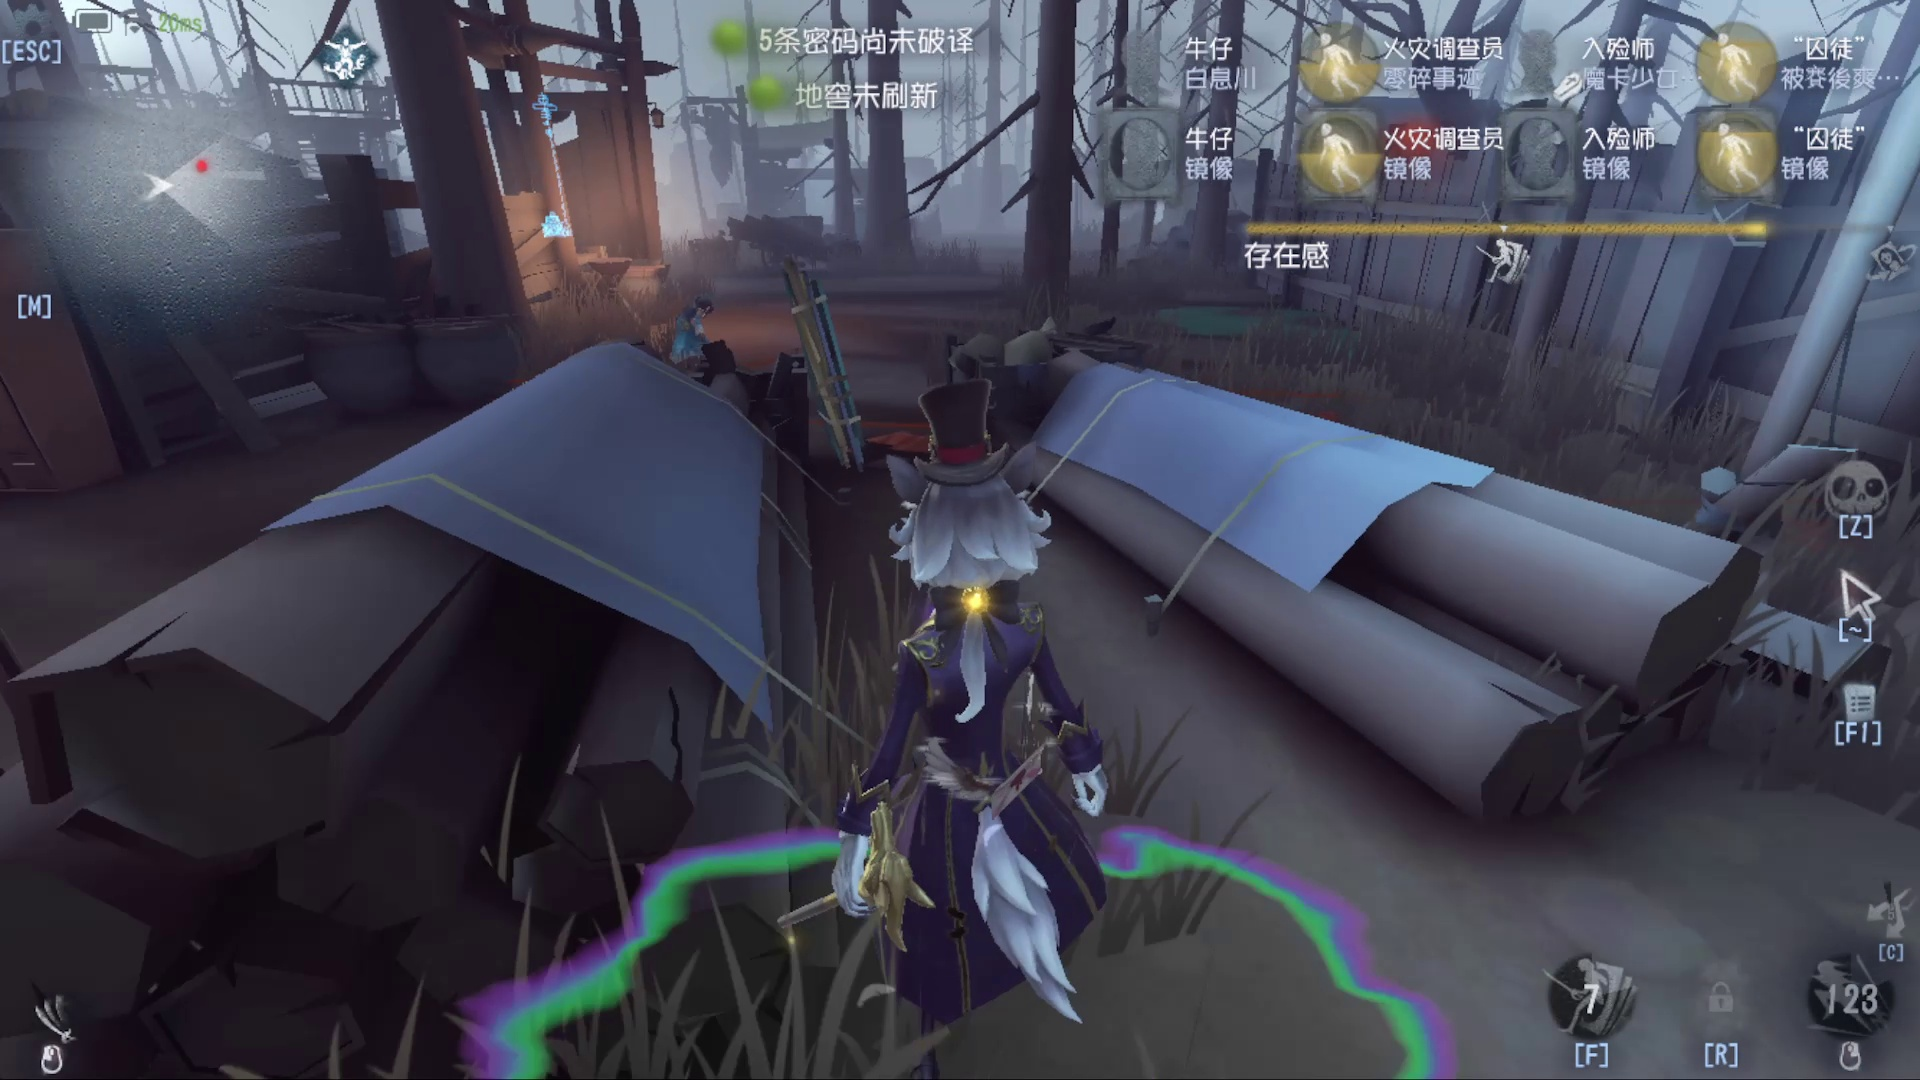密码机: (517, 76, 585, 262)
木板: (767, 260, 874, 477)
求生者: (649, 280, 729, 360)
